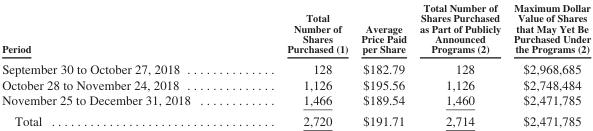table: (1, 1, 590, 127)
table column: (1, 1, 238, 127), (238, 1, 354, 127), (412, 1, 506, 127), (506, 1, 590, 127), (354, 1, 412, 127)
table column header: (1, 1, 590, 58)
table row: (1, 1, 590, 58), (1, 58, 590, 76), (1, 91, 590, 109), (1, 109, 590, 127), (1, 76, 590, 91)
